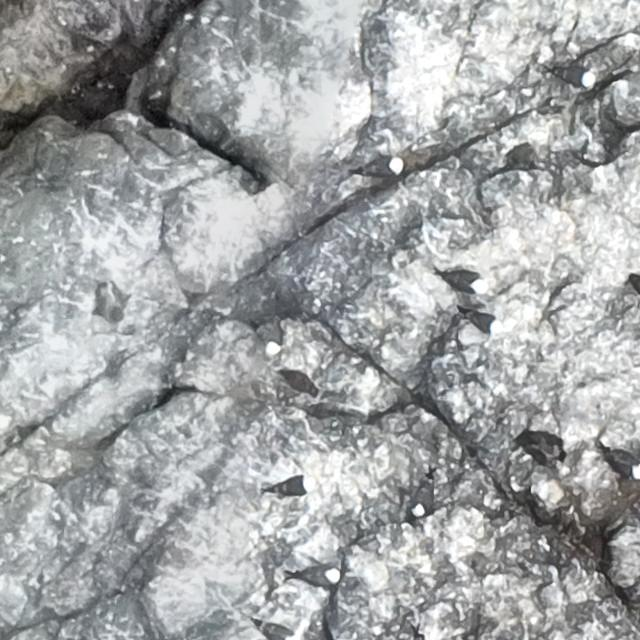umineko: (441, 269, 487, 293), (608, 452, 638, 479), (256, 327, 281, 357), (469, 316, 506, 336), (300, 568, 341, 585), (554, 69, 596, 85), (412, 486, 433, 517), (275, 478, 311, 496), (367, 158, 404, 175), (260, 623, 294, 640)
